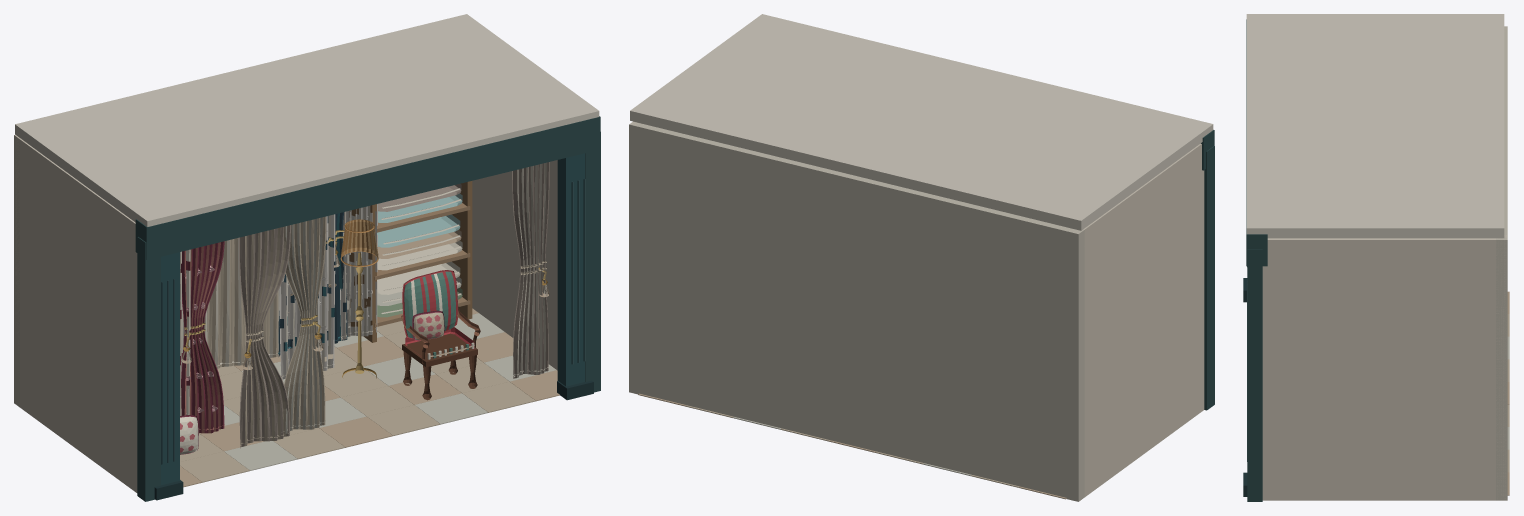
Rendered from drapery-shop.glb.
3 views of the same model, side by side, from view 1: azimuth 30°, elevation 25°; view 2: azimuth 150°, elevation 25°; view 3: azimuth 270°, elevation 25° (orthographic). The views are drawn at different scales.
Visible parts, largest first — view 1: drapery-shop; view 2: drapery-shop; view 3: drapery-shop.
Boxes of the visible parts, x1,y1,x2,y2 form: drapery-shop: [14, 14, 600, 501]; drapery-shop: [629, 14, 1214, 501]; drapery-shop: [1243, 14, 1509, 501].
Bounding box in the file's own units: 5.26 × 3.1 × 2.74.
